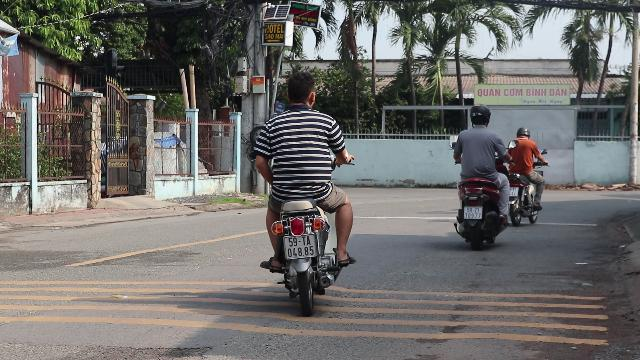helmet: (468, 105, 490, 128)
licenseplate: (284, 233, 316, 259), (464, 206, 482, 219)
motorcyclist: (246, 70, 362, 310), (448, 103, 509, 248)
nohelmet: (284, 72, 318, 108)
